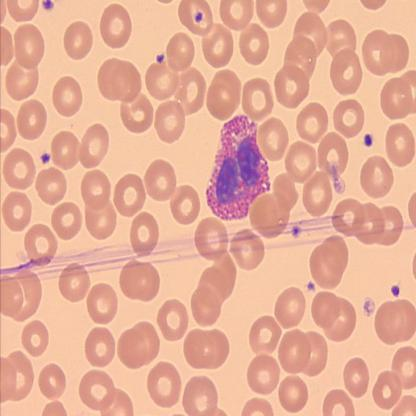Eosinophil: (205, 112, 273, 219)
